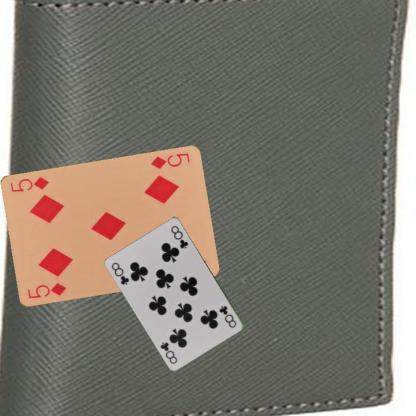5d: (148, 150, 192, 171), (24, 280, 67, 300)
8c: (216, 304, 238, 330), (109, 260, 131, 286)
